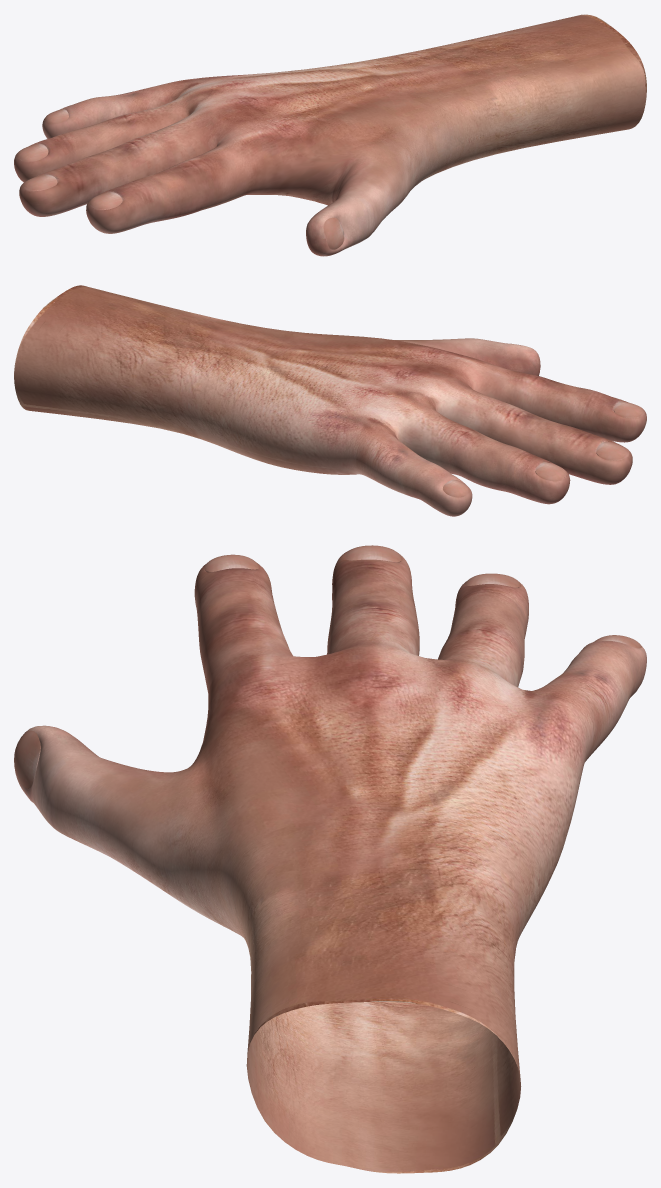
The model's file is Hand_v.5_for_export_R.fbx.
The picture shows the model from 3 angles, top to bottom: view 1: azimuth 30°, elevation 25°; view 2: azimuth 150°, elevation 25°; view 3: azimuth 270°, elevation 25°; orthographic projection. The views are drawn at different scales.
Visible parts, largest first — view 1: Cube.000; view 2: Cube.000; view 3: Cube.000.
Boxes of the visible parts, x1=… form: Cube.000: x1=14, y1=14, x2=646, y2=256; Cube.000: x1=14, y1=285, x2=646, y2=516; Cube.000: x1=14, y1=545, x2=646, y2=1173.
Bounding box in the file's own units: 25.68 × 4.73 × 13.94.
Materials: 1 (1 with a texture image).
